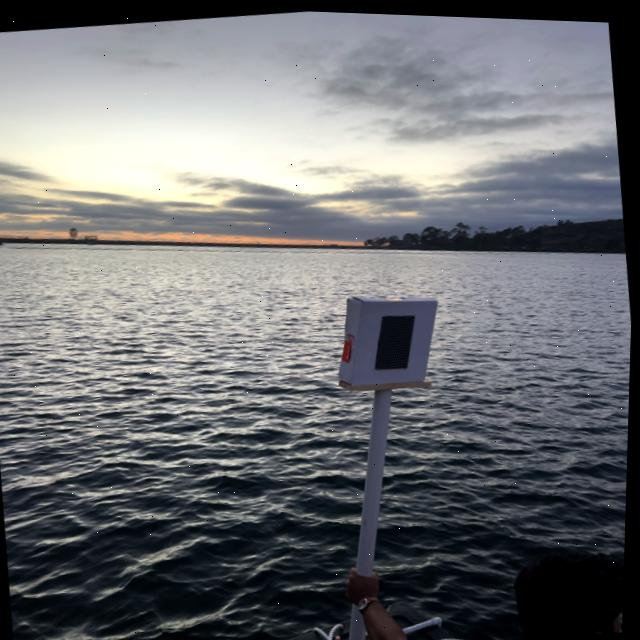led: (358, 298, 427, 384)
